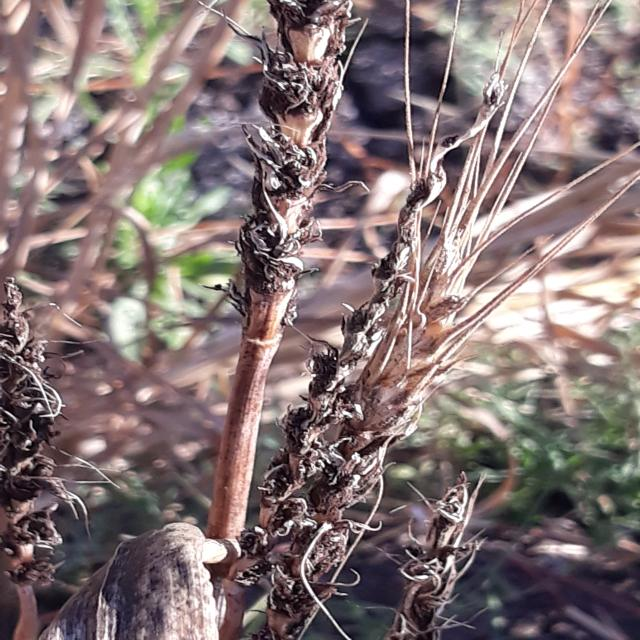loose_charred: (254, 60, 575, 640), (196, 2, 364, 558), (0, 234, 89, 640), (45, 494, 268, 640), (387, 470, 502, 640)
